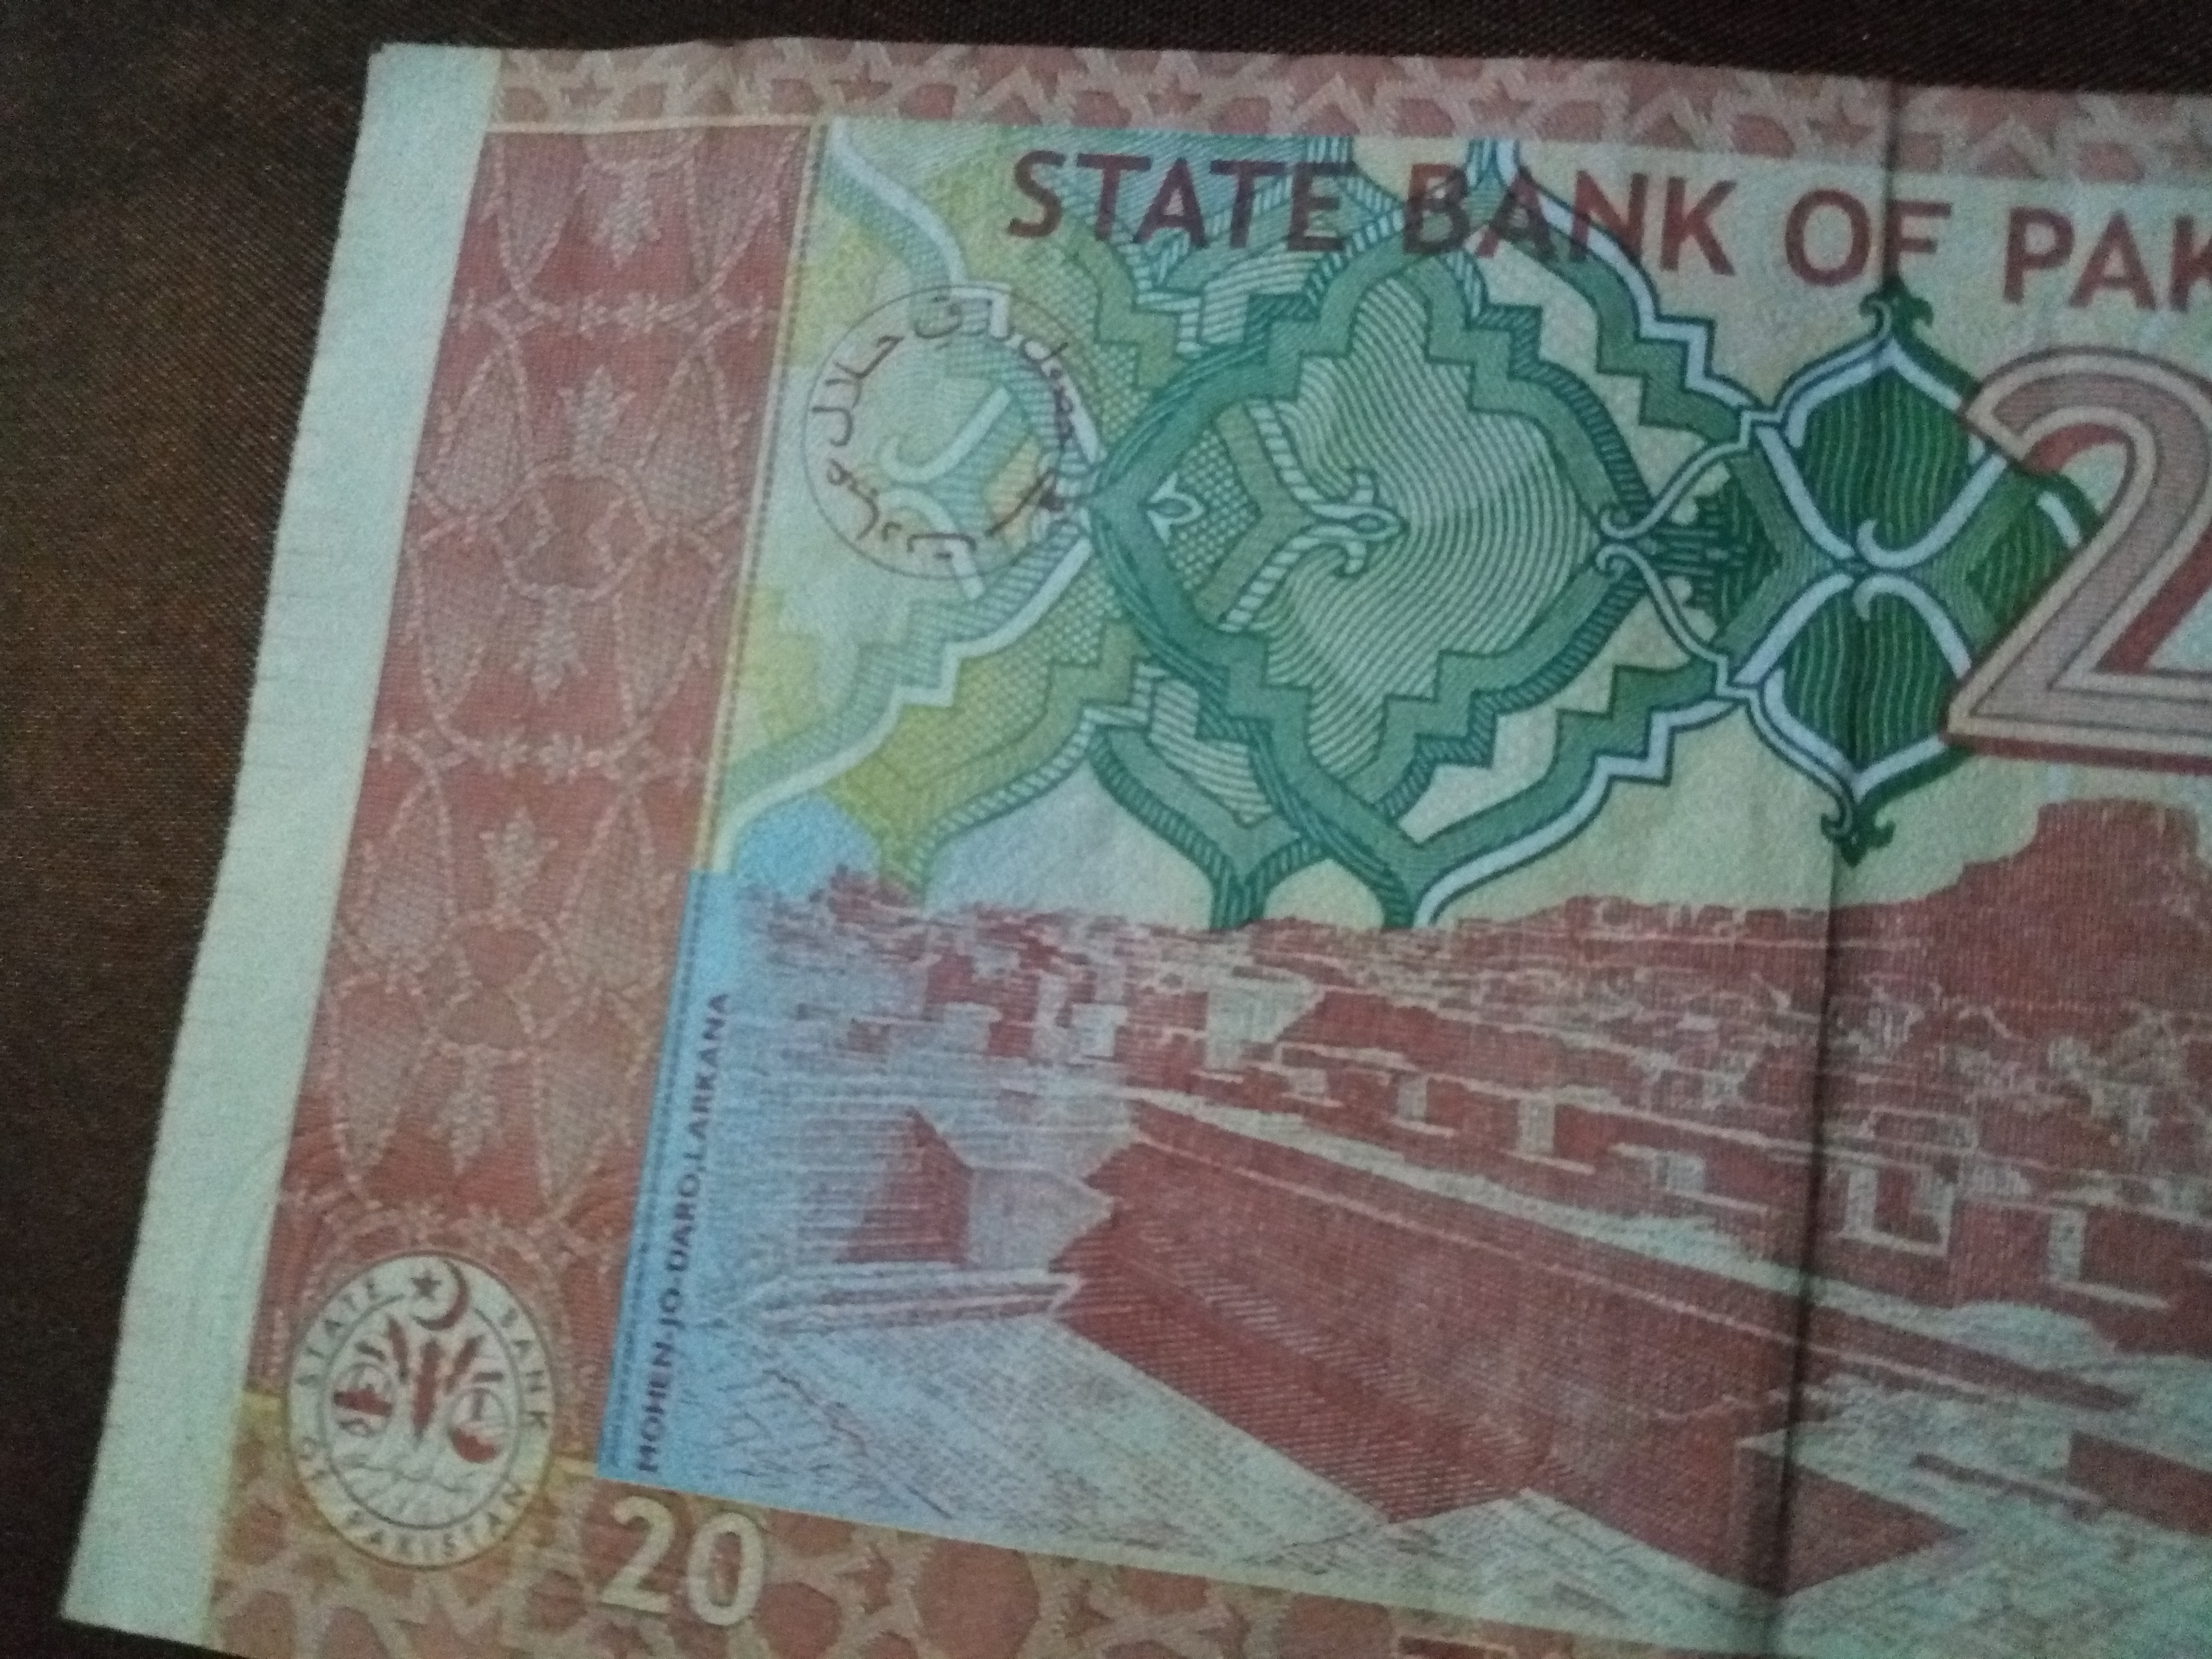20 rupee: (33, 59, 2189, 1642)
